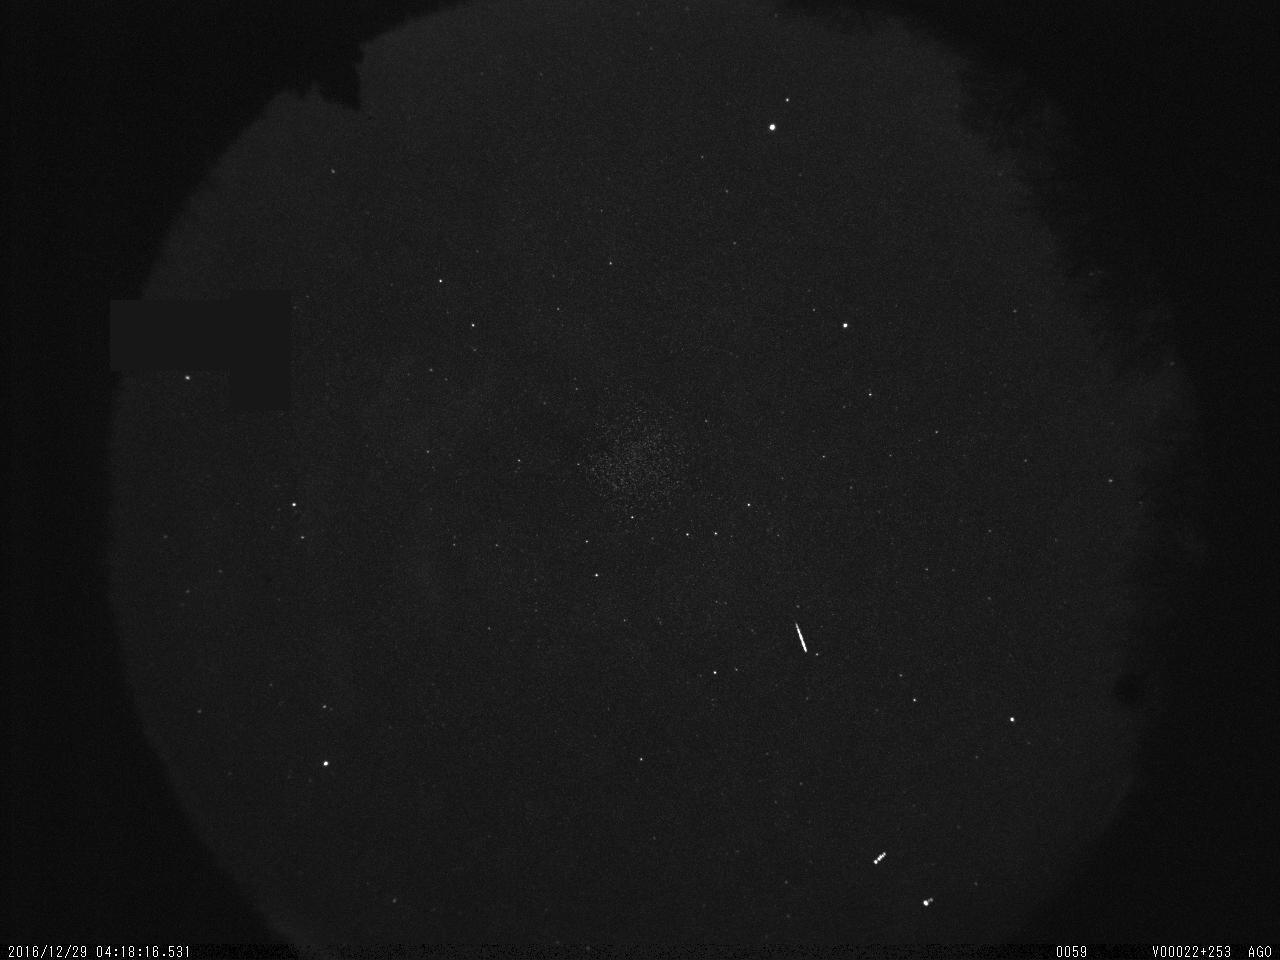meteor: (789, 618, 814, 658)
satelite: (870, 846, 891, 870)
